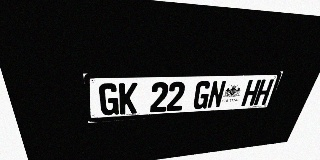2: (166, 81, 186, 111), (150, 82, 169, 112)
G: (98, 83, 119, 116), (192, 81, 212, 110)
H: (241, 80, 262, 106), (253, 79, 274, 105)
K: (119, 83, 138, 114)
N: (207, 80, 227, 109)
